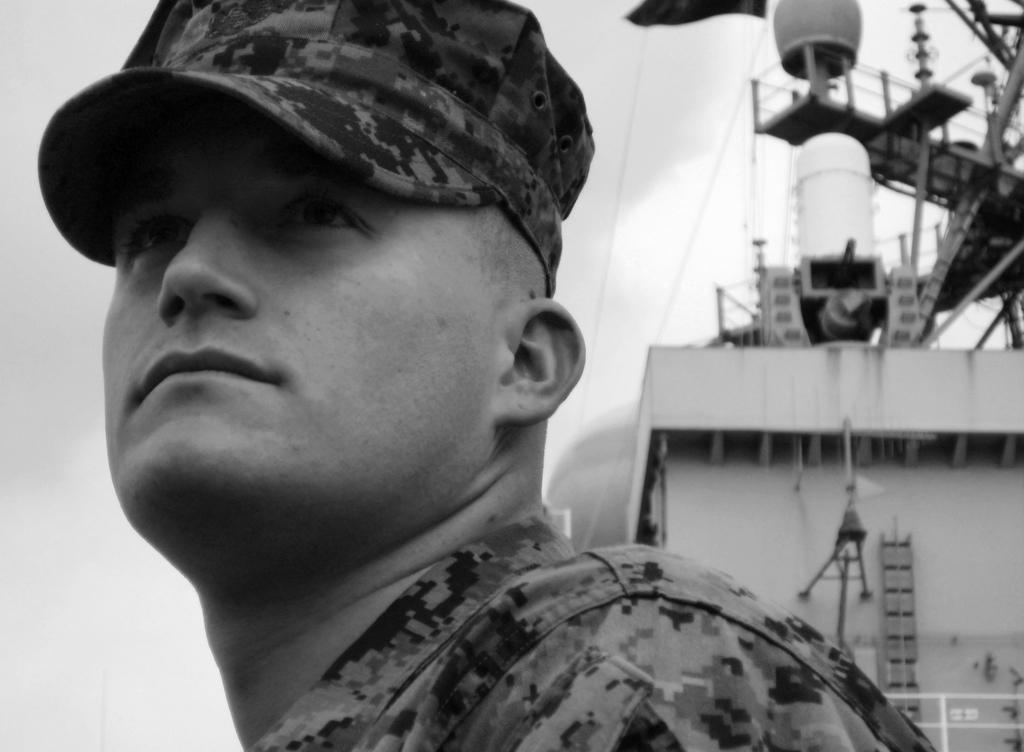Hat: (36, 0, 596, 297)
